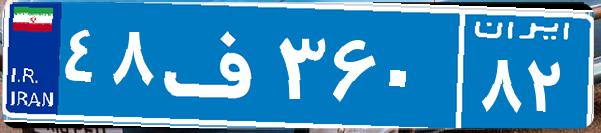0: (385, 28, 445, 110)
2: (525, 38, 570, 115)
3: (273, 28, 330, 110)
4: (57, 26, 110, 107)
6: (330, 28, 385, 110)
8: (475, 38, 525, 113), (110, 28, 158, 105)
ف: (158, 15, 273, 115)
